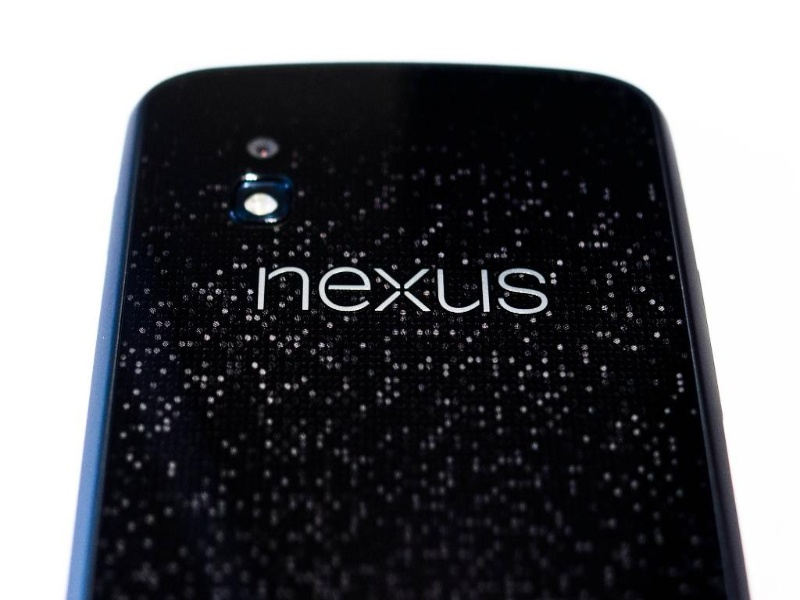cellphone: (107, 67, 751, 600)
